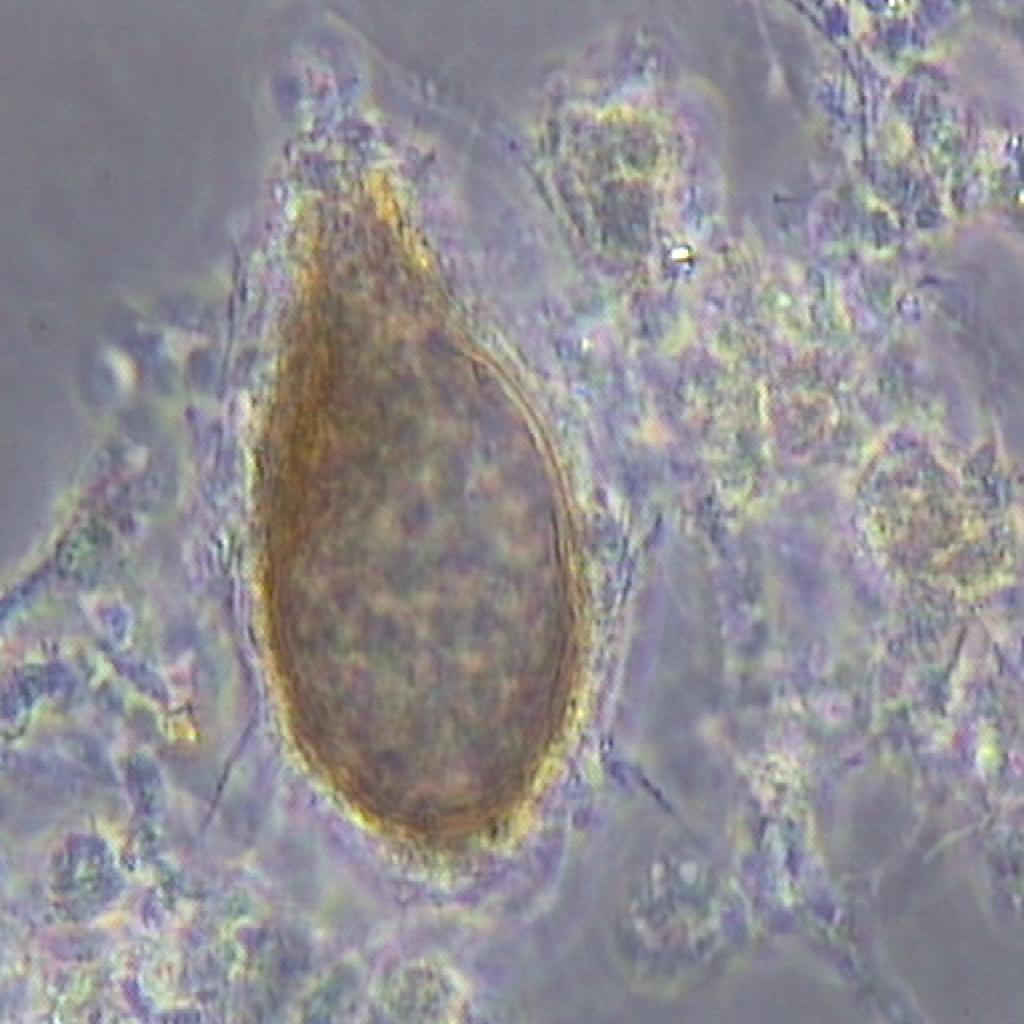Chaetopira: (218, 40, 616, 899)
